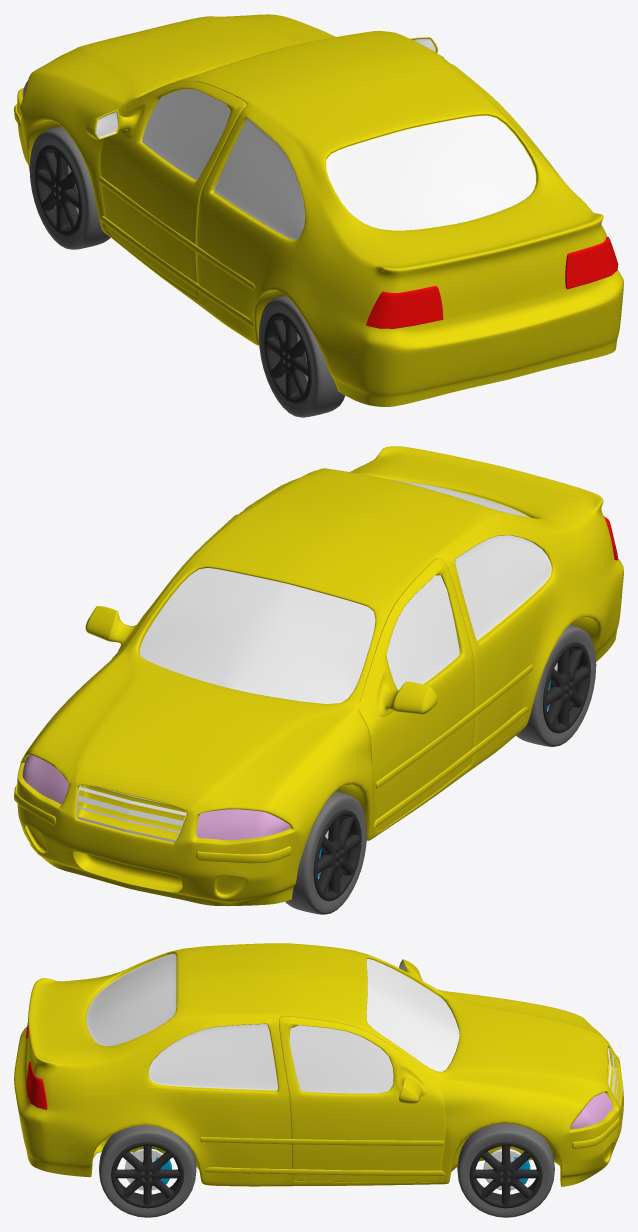
Rendered from auto.fbx.
3 renders of one model, top to bottom at view 1: azimuth 30°, elevation 25°; view 2: azimuth 150°, elevation 25°; view 3: azimuth 270°, elevation 25°, orthographic. The views are drawn at different scales.
Visible parts, largest first — view 1: Carroseria, Puerta, Llanta (×2), Rin (×2), calaveras, DecorativosExteriores; view 2: Carroseria, Puerta, Rin (×2), Llanta (×2), DecorativosExteriores, parrilla; view 3: Carroseria, Llanta (×2), Rin (×2), DecorativosExteriores, calaveras.
Part boxes in pixels (<box>): Carroseria: <box>17,14,623,406</box>; Puerta: <box>85,81,246,297</box>; Llanta (×2): <box>29,126,344,417</box>; Rin (×2): <box>35,144,312,403</box>; calaveras: <box>366,237,618,328</box>; DecorativosExteriores: <box>14,104,255,327</box>; Carroseria: <box>17,446,623,906</box>; Puerta: <box>358,558,476,830</box>; Rin (×2): <box>313,642,590,901</box>; Llanta (×2): <box>285,624,596,914</box>; DecorativosExteriores: <box>14,664,532,863</box>; parrilla: <box>76,785,186,842</box>; Carroseria: <box>14,943,623,1186</box>; Llanta (×2): <box>99,1123,554,1217</box>; Rin (×2): <box>111,1141,542,1208</box>; DecorativosExteriores: <box>200,1118,619,1175</box>; calaveras: <box>26,1022,47,1109</box>.
Bounding box in the file's own units: 3.04 × 2.07 × 5.94.
